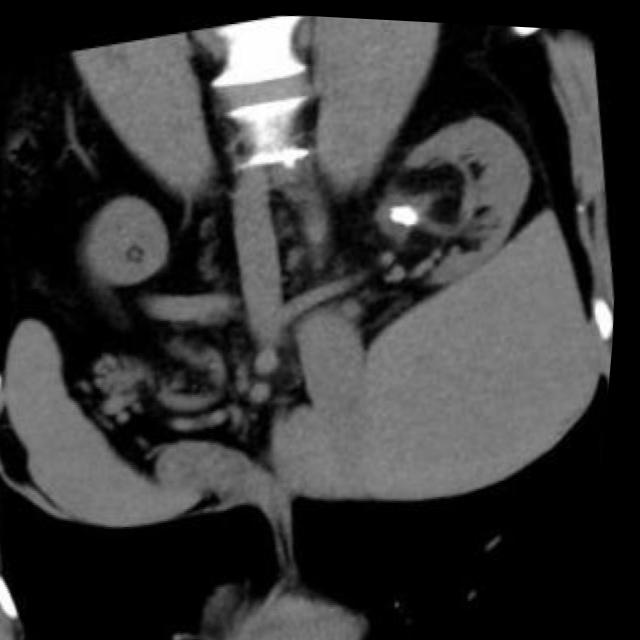Tas_Var: (381, 187, 427, 232)
